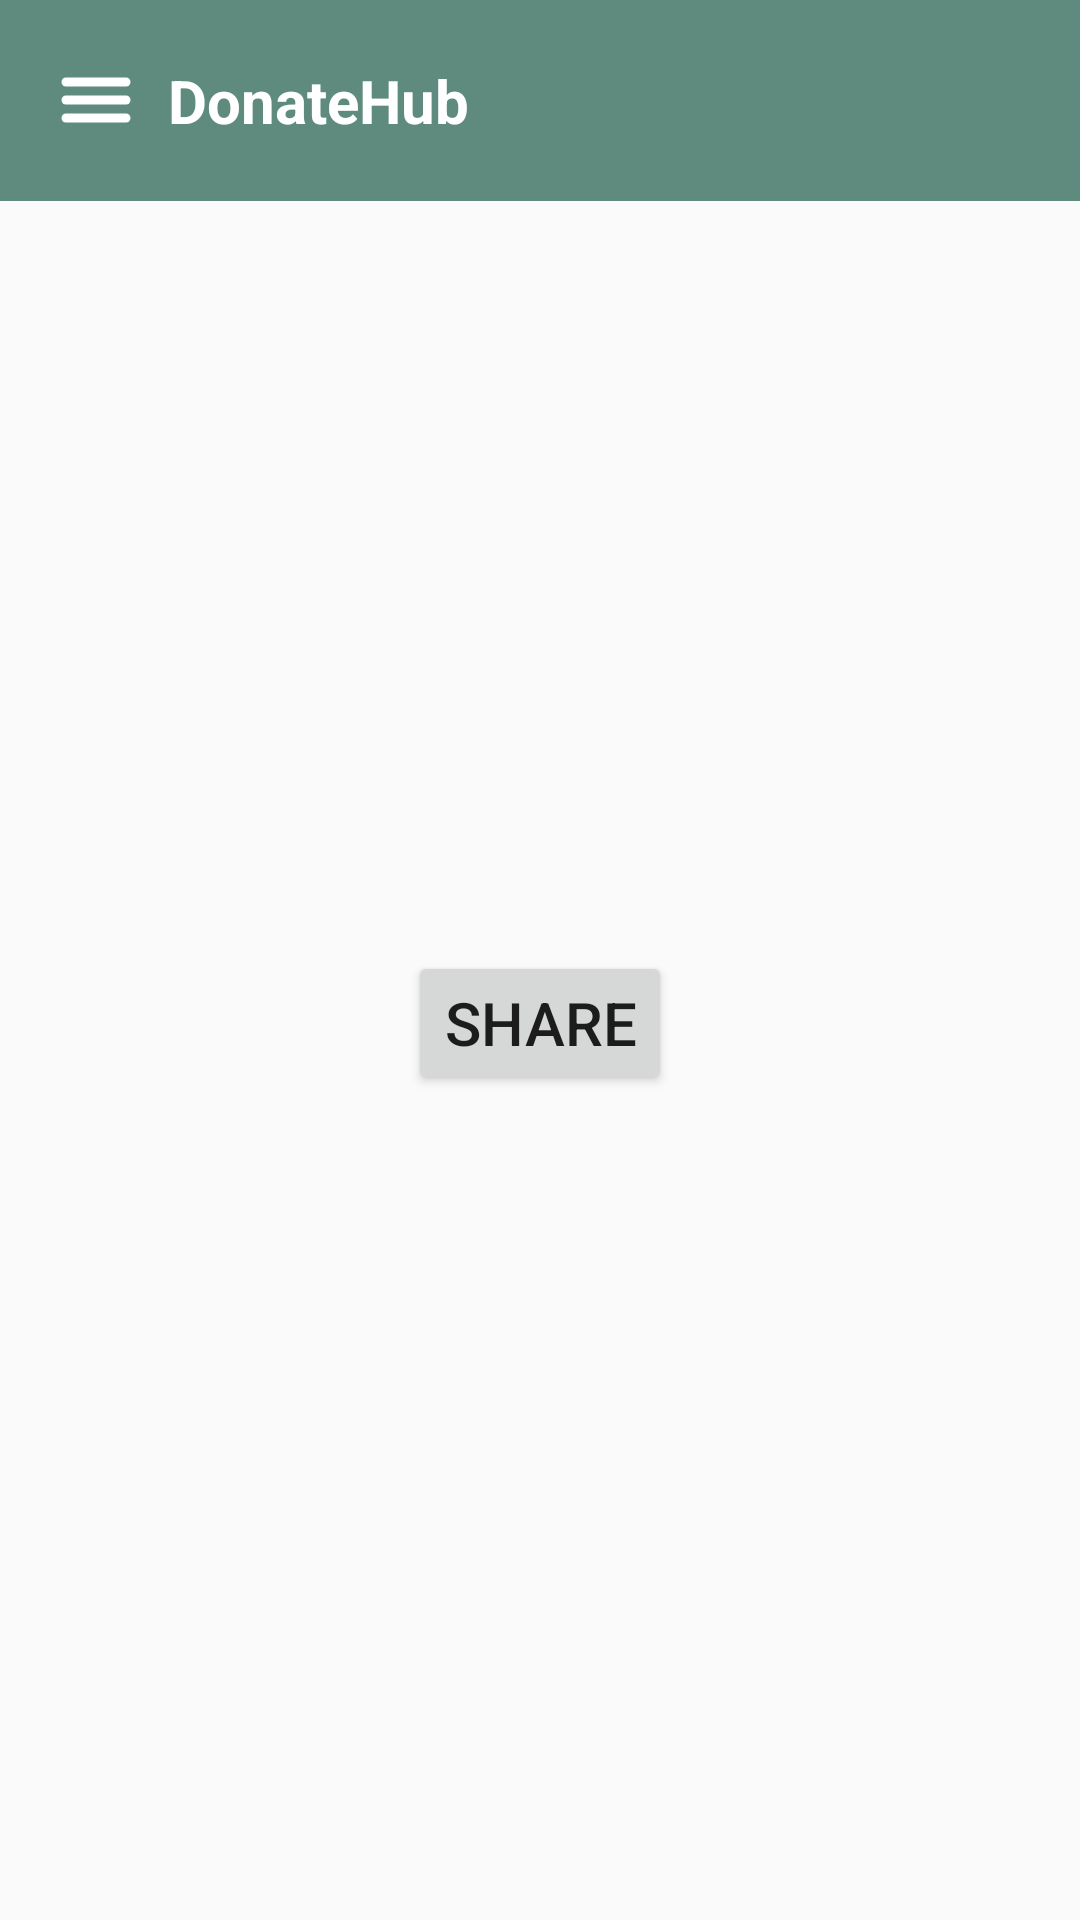

Where to tap for icons on this 1080 × 1920 app screen, as (x,y):
menu: (96,100)
